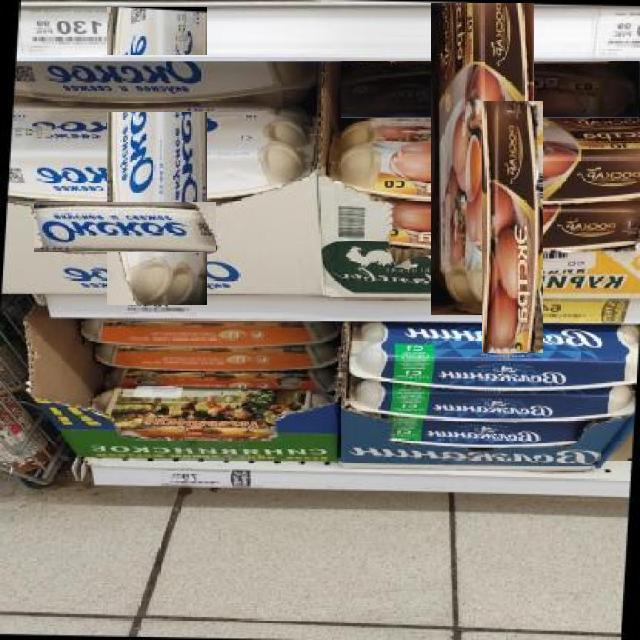Egg: (432, 2, 534, 315), (106, 8, 207, 305), (340, 60, 639, 118), (14, 55, 312, 112), (483, 100, 543, 353), (33, 201, 216, 252)
